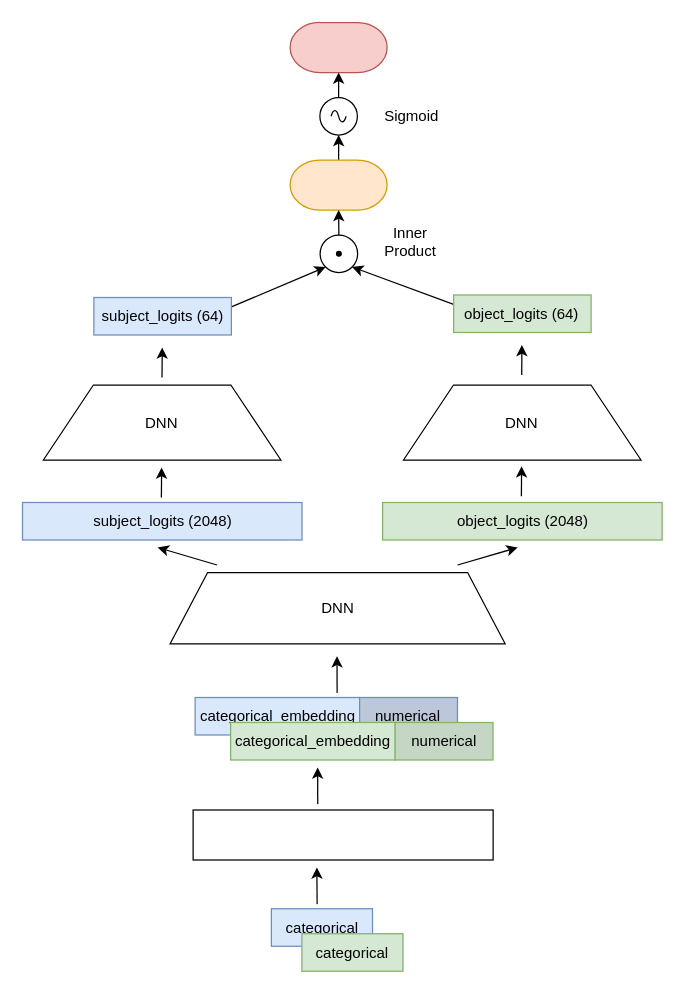
Some shapes in this 684 by 993 pixel diagram are drawn without their labels. The shapes that lost their labels are listed below. From the top down, each one's centre as x and y in pixels, then its label:
At [338,46]: "dec_probs".
At [338,184]: "similarity".
At [342,834]: "Embedding Layer".
